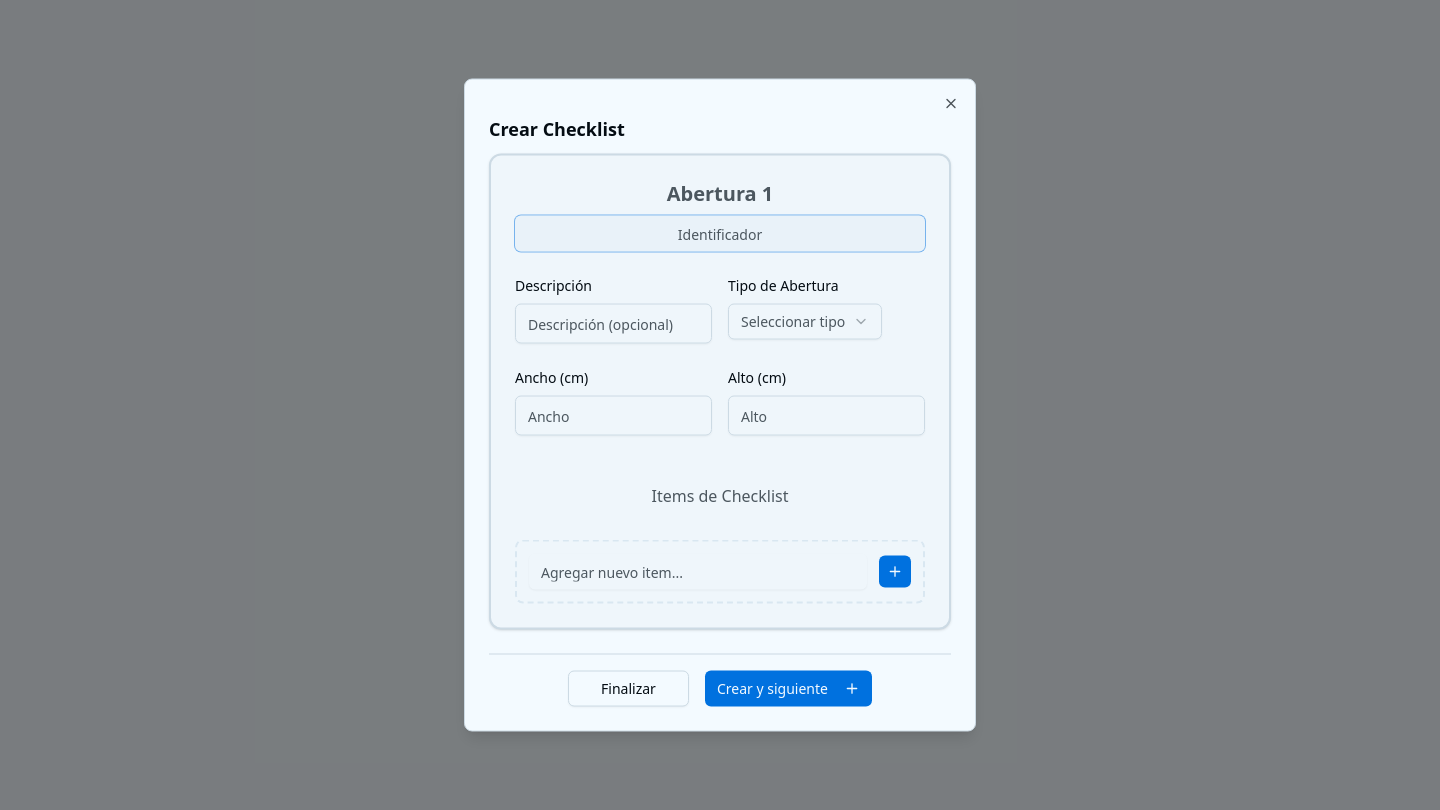
Test: ChecklistModal › should allow adding new items
The image size is (1440, 810).
Type "New Item" into the field with placeholder "Agregar nuevo item..." at (698, 572), box [529,554,867,590]
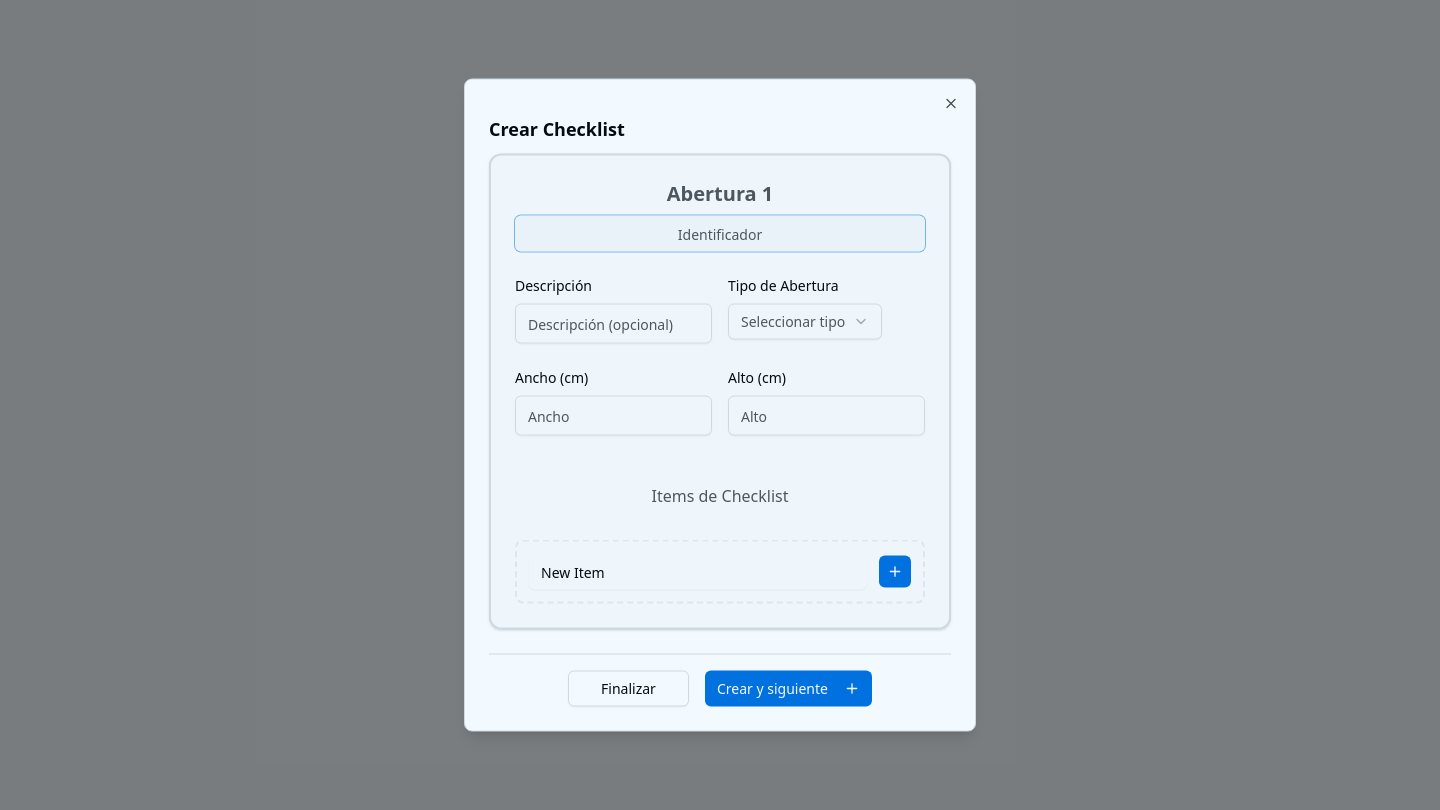
Press Enter in the field with placeholder "Agregar nuevo item...", box [529,554,867,590]
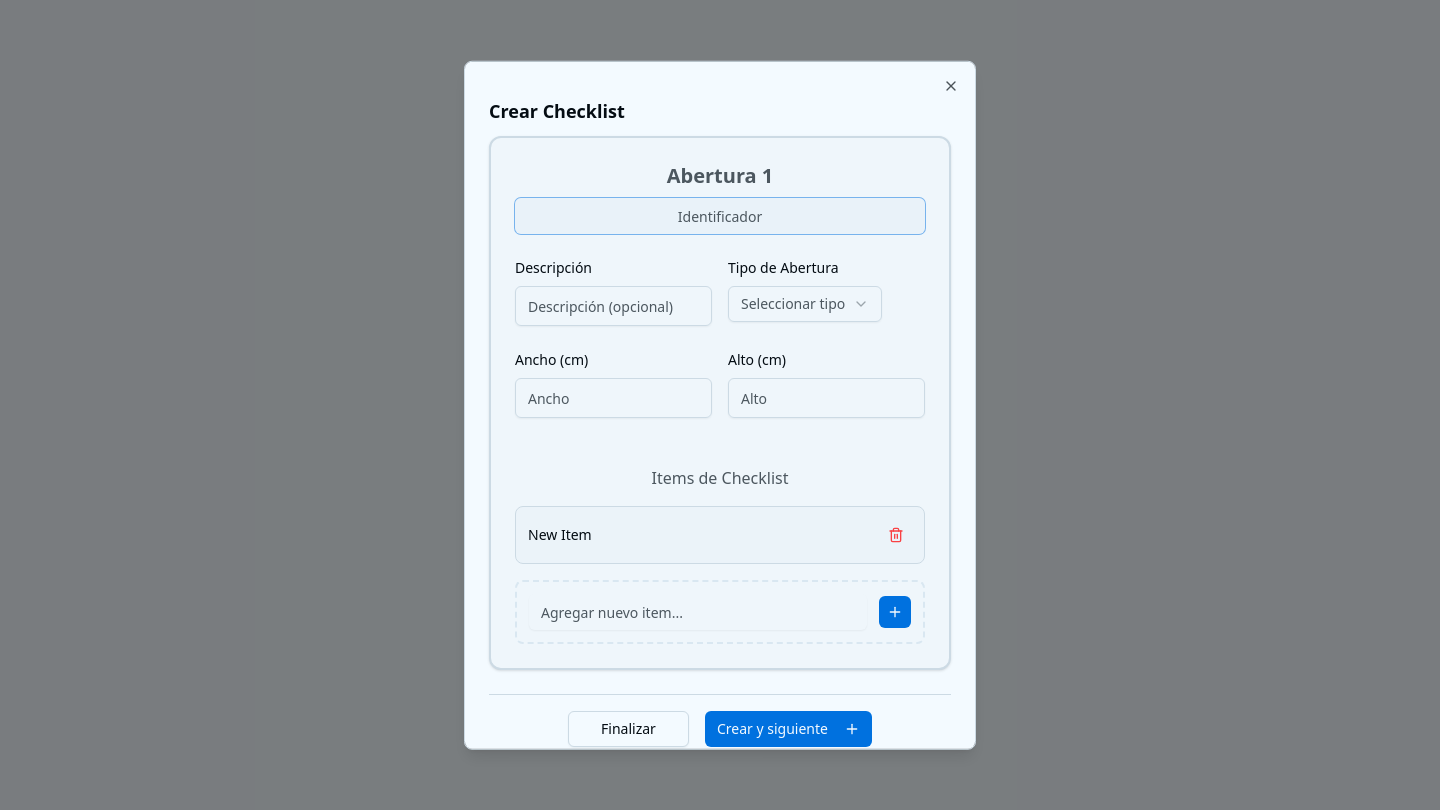
Now the text "New Item" is shown, box [528,525,592,545]
